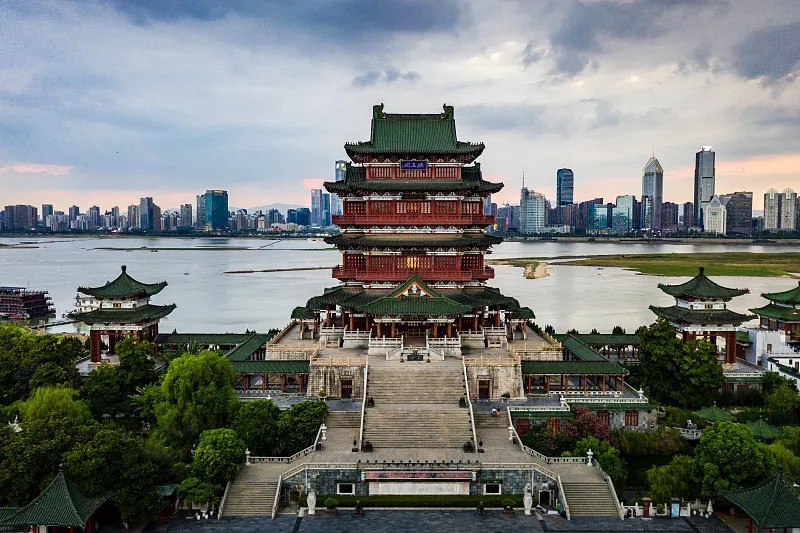Teng: (291, 103, 536, 339)
